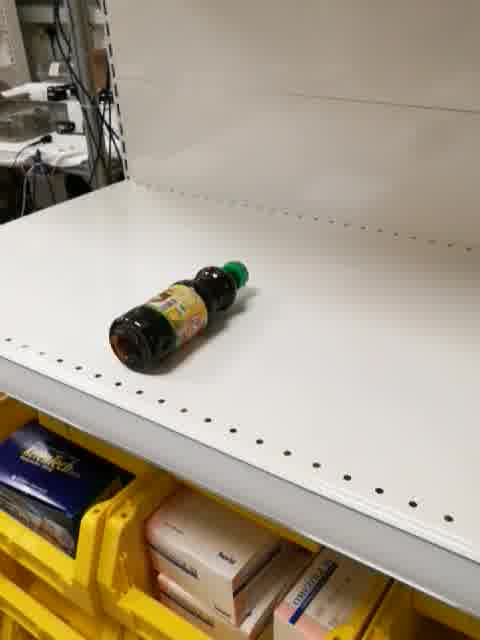cookingoil: (107, 256, 251, 375)
